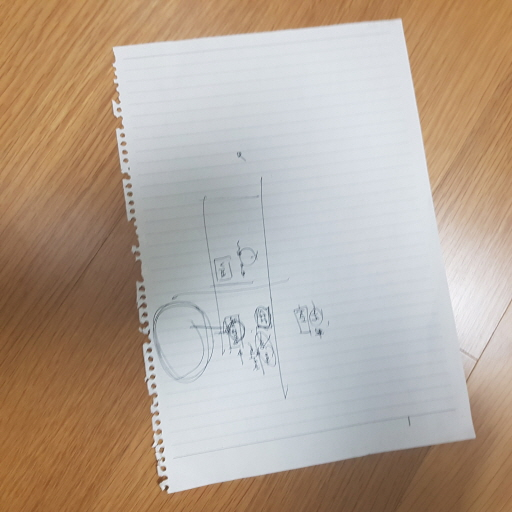Paper_2: (98, 12, 488, 504)
